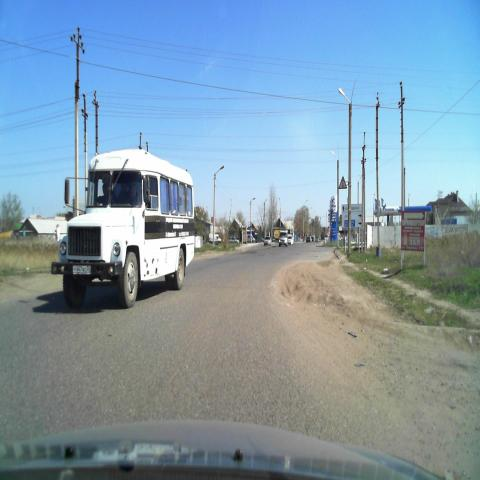1_8: (338, 175, 348, 191)
